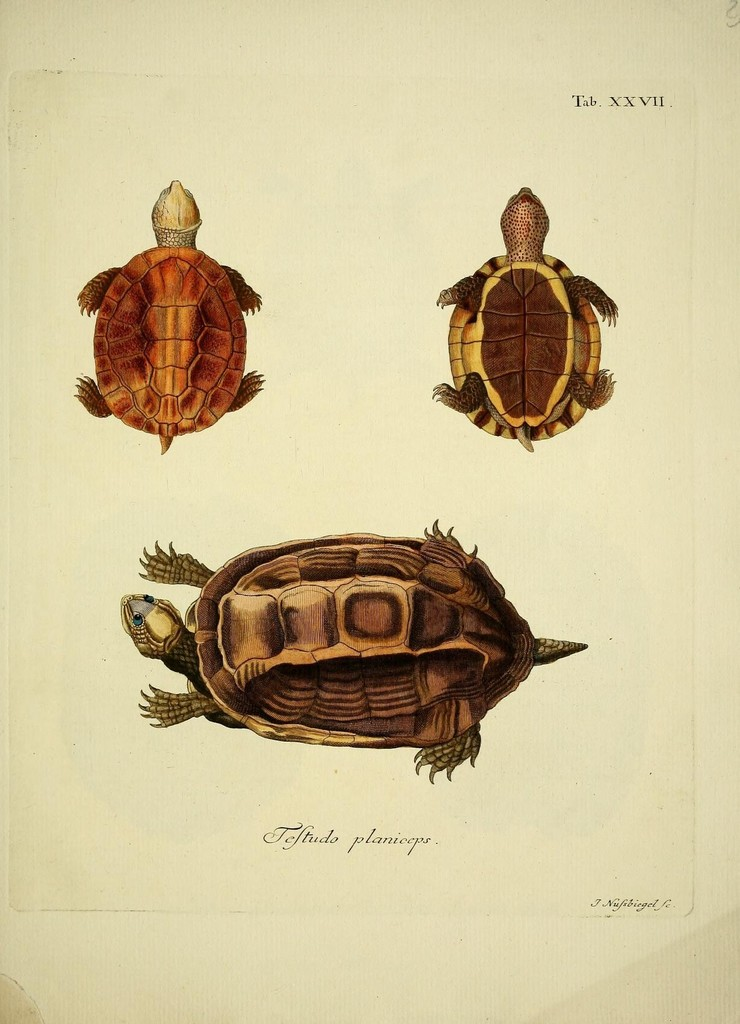Sea turtles: (113, 513, 589, 791), (68, 172, 264, 451), (427, 181, 619, 443)
